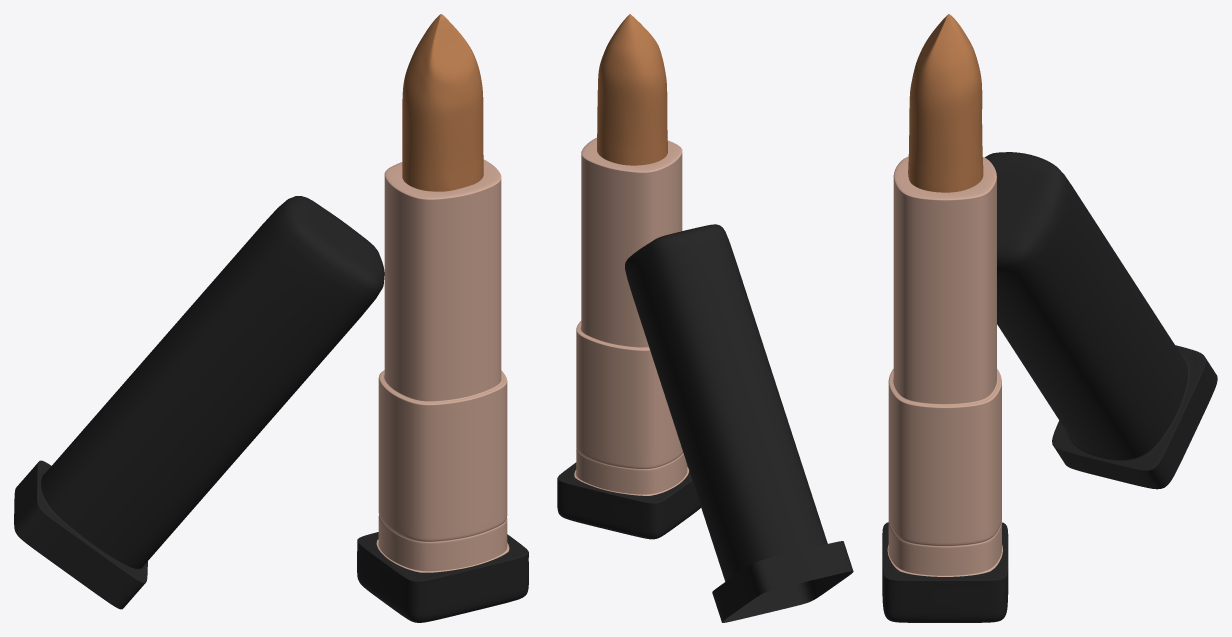
The model's file is Stylish_Lipstick_FBX.fbx.
3 views of the same model, side by side, from view 1: azimuth 30°, elevation 25°; view 2: azimuth 150°, elevation 25°; view 3: azimuth 270°, elevation 25° (orthographic). The views are drawn at different scales.
Parts seen in each view (by area): view 1: Stylish Lipstick cover, Stylish Lipstick box, Stylish Lipstick; view 2: Stylish Lipstick cover, Stylish Lipstick box, Stylish Lipstick; view 3: Stylish Lipstick box, Stylish Lipstick cover, Stylish Lipstick.
Boxes of the visible parts, bbox=[...] form: Stylish Lipstick cover: bbox=[14, 196, 384, 609]; Stylish Lipstick box: bbox=[357, 159, 528, 622]; Stylish Lipstick: bbox=[402, 14, 483, 191]; Stylish Lipstick cover: bbox=[625, 224, 853, 622]; Stylish Lipstick box: bbox=[557, 137, 700, 539]; Stylish Lipstick: bbox=[597, 14, 667, 165]; Stylish Lipstick box: bbox=[882, 156, 1008, 622]; Stylish Lipstick cover: bbox=[985, 152, 1217, 489]; Stylish Lipstick: bbox=[908, 14, 983, 192].
Size of what is drawn, in the model's own units: 658 by 907 by 471.
